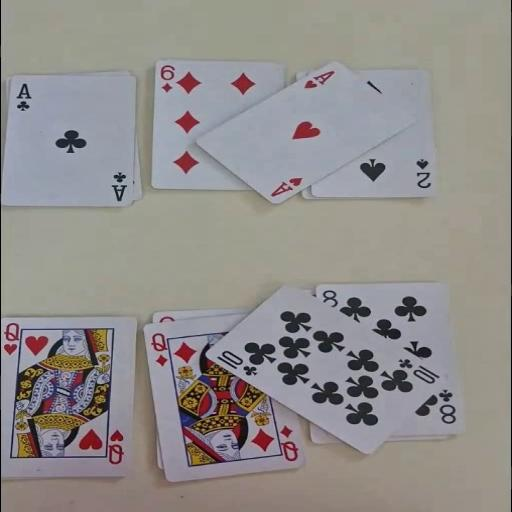10: (395, 356, 443, 385), (213, 348, 260, 377), (276, 423, 301, 462)
2: (414, 157, 432, 189)
6: (158, 63, 176, 93)
8: (436, 387, 458, 425), (320, 288, 340, 309)
A: (267, 175, 304, 198), (301, 68, 336, 90), (108, 169, 128, 202), (13, 81, 33, 112)
Q: (276, 424, 300, 462), (147, 330, 169, 368), (105, 427, 126, 465), (2, 320, 21, 357)
